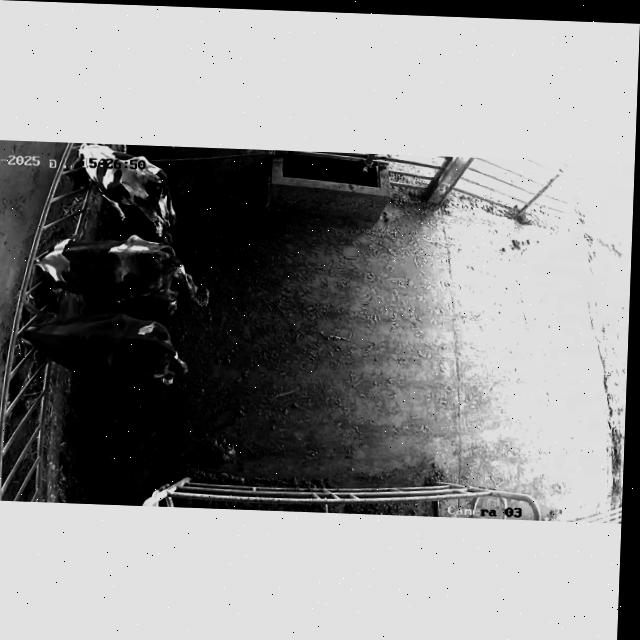eat: (0, 233, 107, 295), (37, 142, 123, 207), (0, 309, 80, 366)
